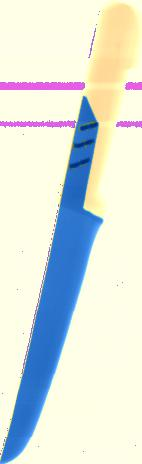Knife: (1, 2, 141, 464)
